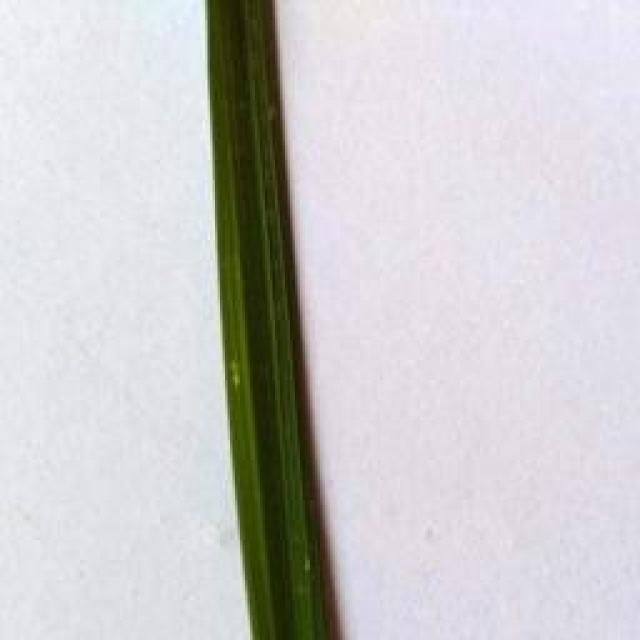Healthy-Plant: (197, 0, 348, 640)
